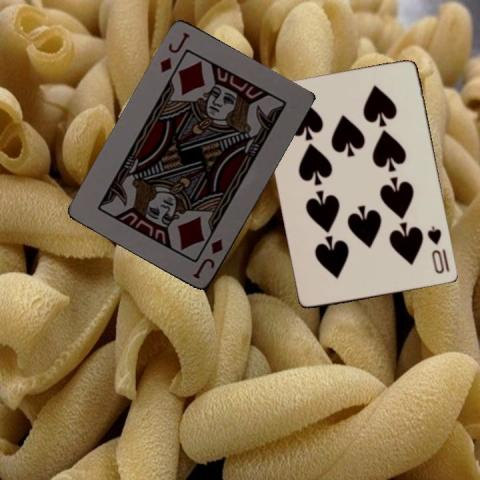10s: (425, 224, 446, 275)
Jd: (189, 236, 225, 281), (157, 29, 191, 75)
